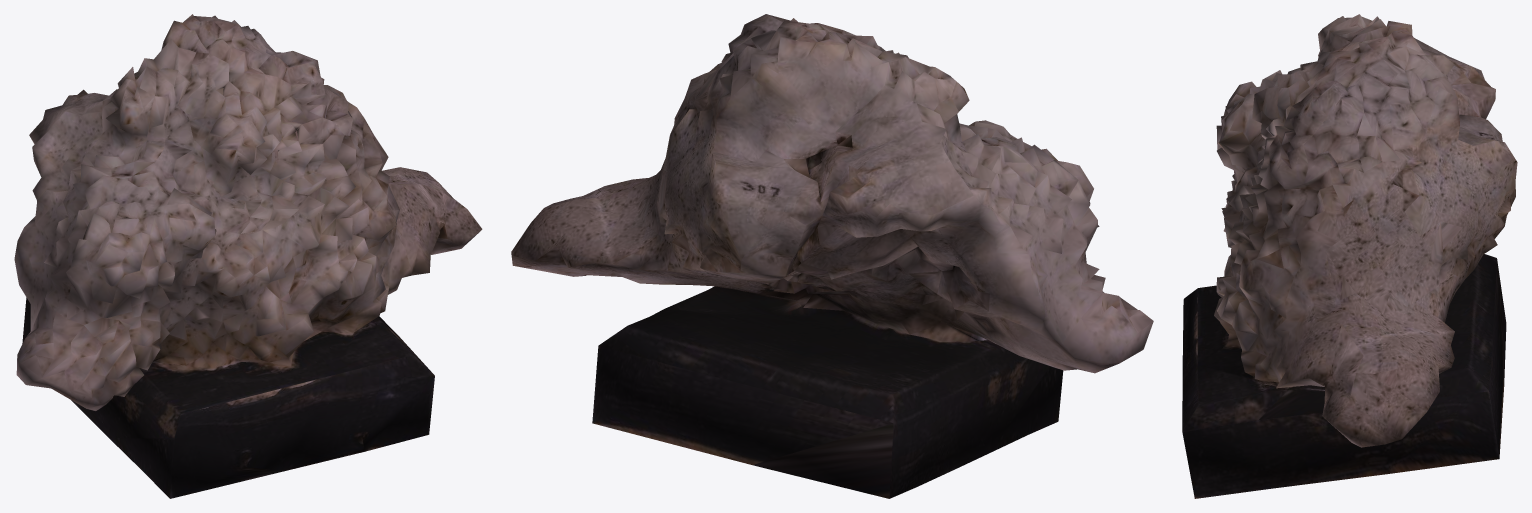
The model's file is scan_coral_montipora.glb.
The picture shows the model from 3 angles, left to right: view 1: azimuth 30°, elevation 25°; view 2: azimuth 150°, elevation 25°; view 3: azimuth 270°, elevation 25°; orthographic projection. The views are drawn at different scales.
Visible parts, largest first — view 1: scan_coral_montipora; view 2: scan_coral_montipora; view 3: scan_coral_montipora.
Boxes of the visible parts, bbox=[...] form: scan_coral_montipora: bbox=[14, 14, 482, 498]; scan_coral_montipora: bbox=[511, 14, 1153, 498]; scan_coral_montipora: bbox=[1182, 14, 1517, 498].
Bounding box in the file's own units: 0.6992 × 0.5135 × 0.3905.
1 material, 1 textured.
